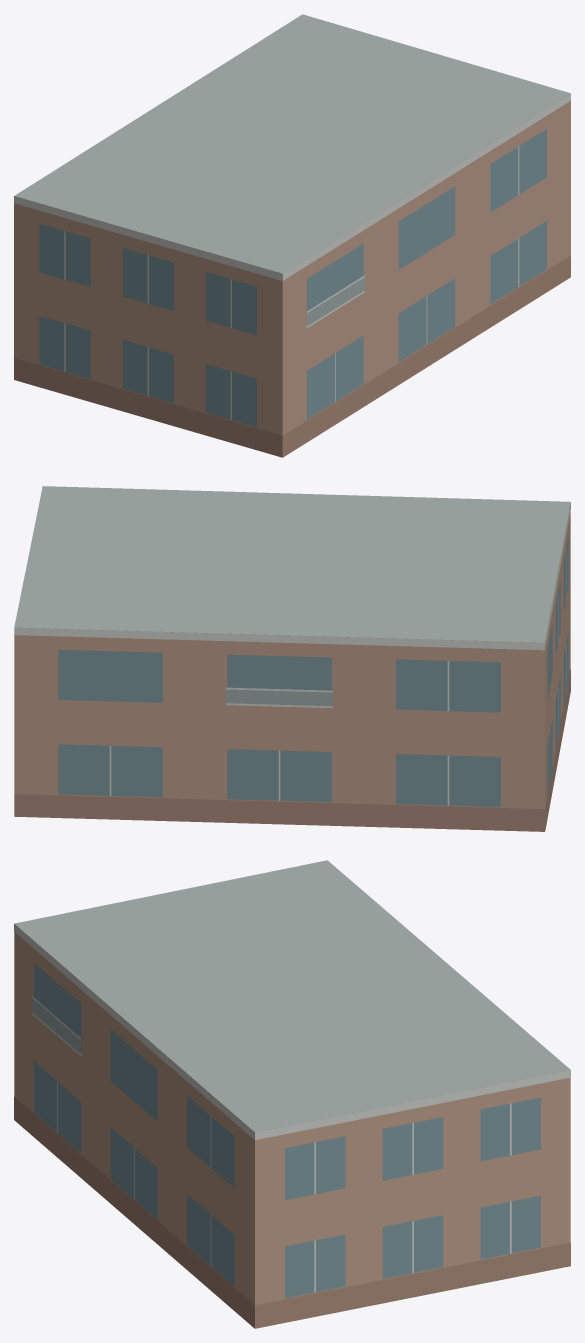
Rendered from survey-upis-32959045.glb.
3 renders of one model, top to bottom at view 1: azimuth 30°, elevation 25°; view 2: azimuth 150°, elevation 25°; view 3: azimuth 270°, elevation 25°, orthographic. The views are drawn at different scales.
Visible parts, largest first — view 1: survey-upis-32959045.tmp; view 2: survey-upis-32959045.tmp; view 3: survey-upis-32959045.tmp.
Boxes of the visible parts, <box> form: survey-upis-32959045.tmp: <box>14,14,570,457</box>; survey-upis-32959045.tmp: <box>14,486,570,831</box>; survey-upis-32959045.tmp: <box>14,860,570,1328</box>.
Bounding box in the file's own units: 18.15 × 6.1 × 15.68.
